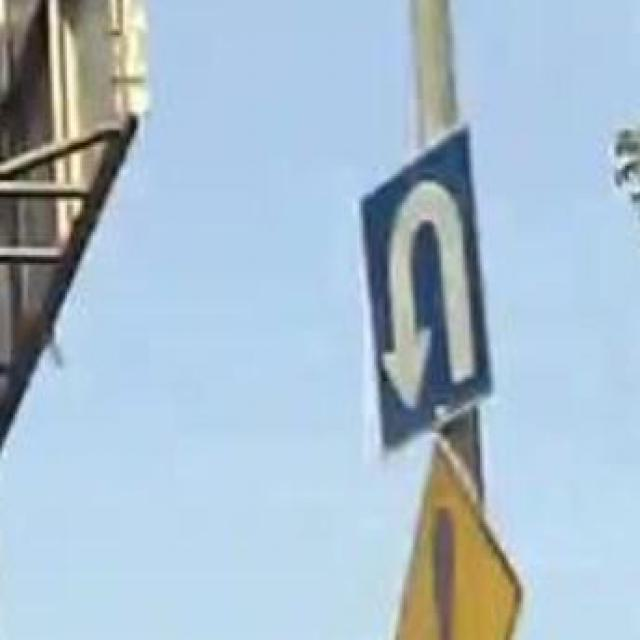U-turn: (355, 136, 498, 438)
